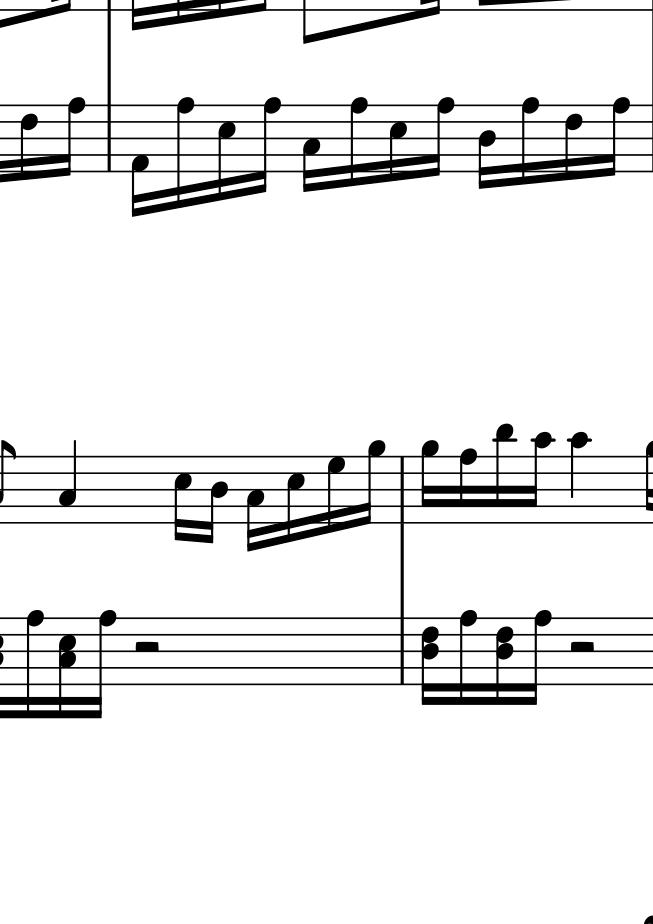16_1: (130, 106, 149, 217)
16_10: (526, 431, 555, 525)
16_11: (492, 421, 517, 523)
16_3: (245, 455, 265, 552), (301, 103, 321, 195)
16_3_5: (57, 616, 80, 720)
16_4: (202, 455, 229, 546), (476, 103, 497, 191)
16_4_6: (420, 616, 441, 707), (494, 617, 515, 708)
16_5: (216, 101, 236, 205), (172, 452, 193, 546), (285, 453, 306, 546), (387, 103, 408, 184)
16_6: (18, 101, 39, 183), (563, 101, 584, 183)
16_7: (325, 453, 345, 537)
16_8: (88, 609, 117, 719), (251, 96, 282, 197), (522, 609, 551, 706), (174, 96, 196, 213), (24, 609, 47, 719), (425, 97, 456, 177), (56, 97, 86, 178), (601, 97, 631, 177), (458, 606, 480, 708), (348, 95, 369, 190), (519, 95, 540, 189), (457, 447, 478, 525)
16_9: (360, 440, 386, 526), (419, 436, 439, 527)
4_10: (567, 429, 591, 526)
4_3: (57, 440, 78, 524)
Rests2: (131, 639, 163, 655), (567, 640, 598, 655)
Single_barline: (101, 104, 117, 171), (394, 618, 410, 683), (395, 457, 410, 524)
